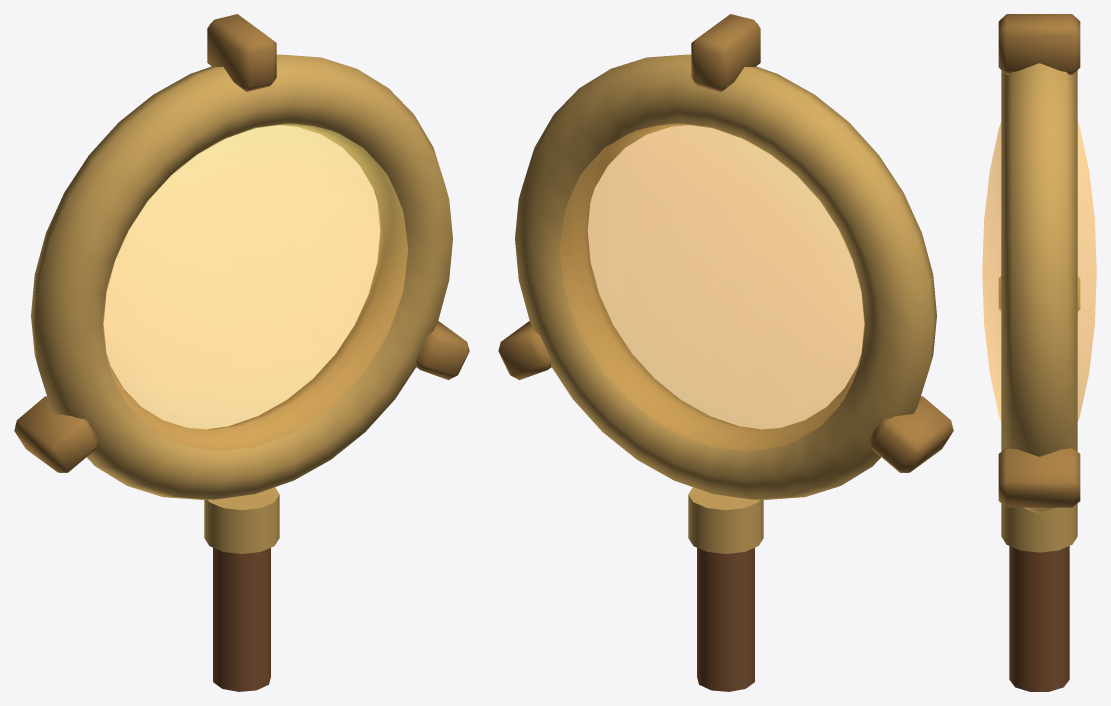
The model's file is part_brass_lens.glb.
3 views of the same model, side by side, from view 1: azimuth 30°, elevation 25°; view 2: azimuth 150°, elevation 25°; view 3: azimuth 270°, elevation 25° (orthographic).
Parts seen in each view (by area): view 1: part_brass_lens; view 2: part_brass_lens; view 3: part_brass_lens.
Boxes of the visible parts, x1=… form: part_brass_lens: x1=14, y1=14, x2=469, y2=691; part_brass_lens: x1=498, y1=14, x2=953, y2=691; part_brass_lens: x1=982, y1=14, x2=1096, y2=691.
Size of the model in its own units: 0.1817 by 0.267 by 0.042.
